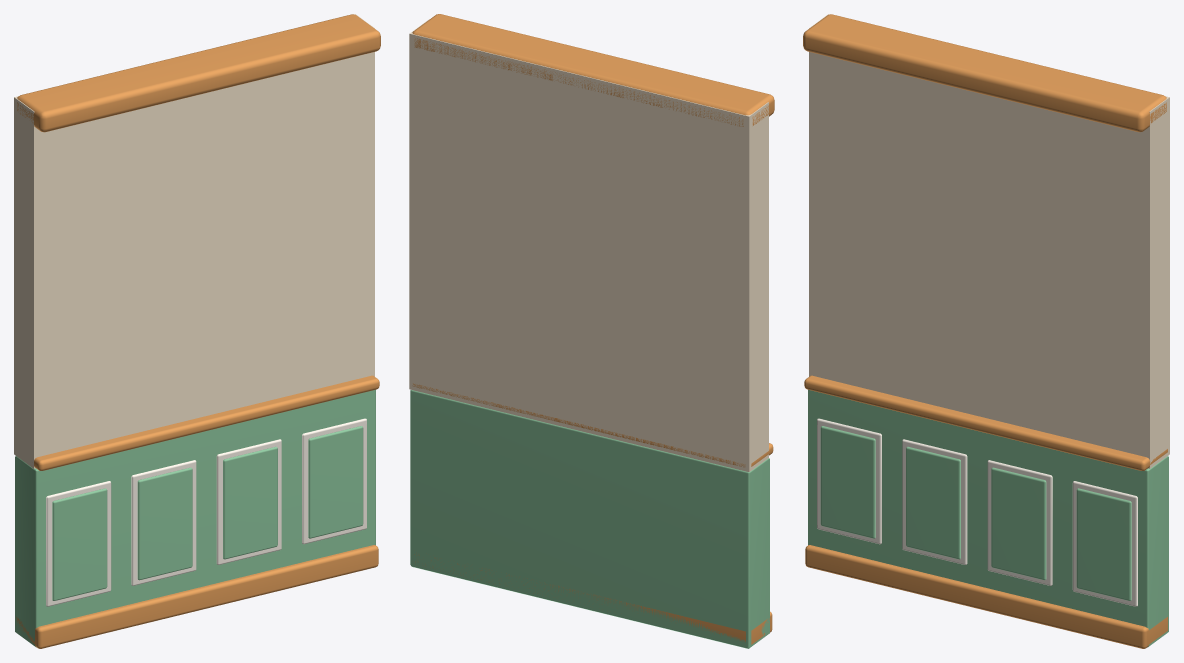
The model's file is wall-plain.glb.
The picture shows the model from 3 angles, left to right: view 1: azimuth 30°, elevation 25°; view 2: azimuth 150°, elevation 25°; view 3: azimuth 330°, elevation 25°; orthographic projection.
Parts seen in each view (by area): view 1: wall-plain; view 2: wall-plain; view 3: wall-plain.
Boxes of the visible parts, bbox=[...] form: wall-plain: bbox=[14, 14, 380, 648]; wall-plain: bbox=[409, 14, 774, 648]; wall-plain: bbox=[803, 14, 1169, 648].
Bounding box in the file's own units: 2 × 3.01 × 0.28.
